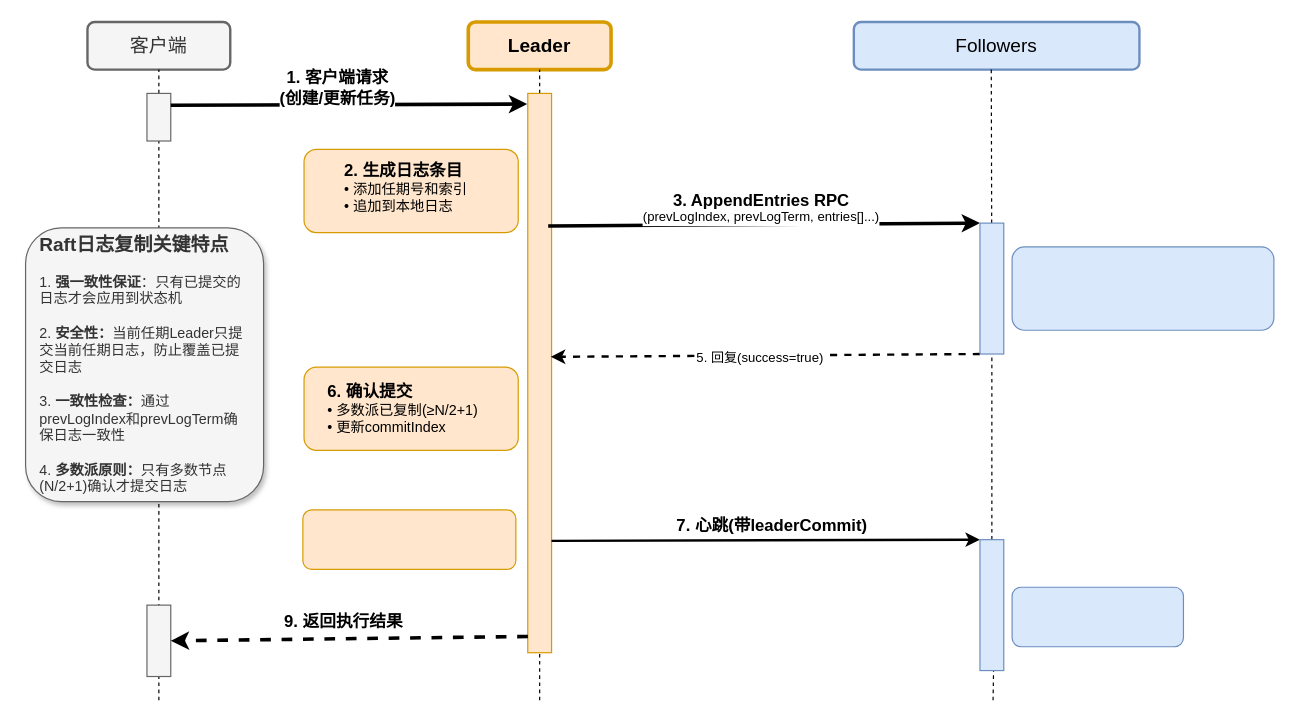
This 1295x722 diagram has some shape labels left out. Each missing label, with the centre of its shape:
"4. 一致性检查和追加 • 验证prevLogIndex/Term匹配 • 追加新日志条目" goes at point (1142, 288).
"7. 应用到状态机 • 更新lastApplied" goes at point (409, 539).
"8. 应用到状态机 • 更新lastApplied" goes at point (1097, 616).
